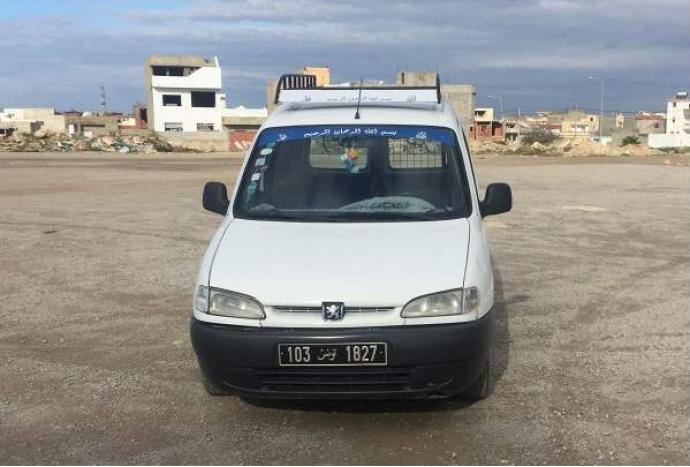LP: (276, 341, 390, 367)
